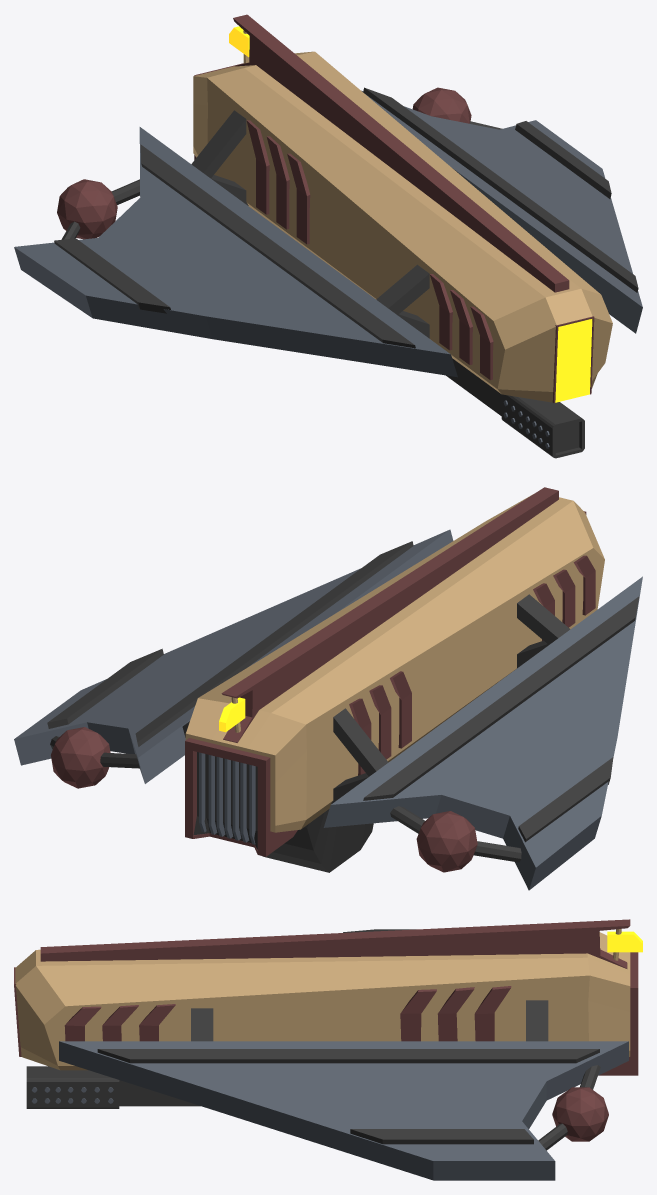
File: Gegner9.fbx
The picture shows the model from 3 angles, top to bottom: view 1: azimuth 30°, elevation 25°; view 2: azimuth 150°, elevation 25°; view 3: azimuth 270°, elevation 25°; orthographic projection. The views are drawn at different scales.
Visible parts, largest first — view 1: Cube.004; view 2: Cube.004; view 3: Cube.004.
Part boxes in pixels (x1,y1,x2,y2): Cube.004: (14,14,642,458); Cube.004: (14,487,642,890); Cube.004: (14,919,642,1180).
Size of the model in its own units: 387 by 153 by 441.
